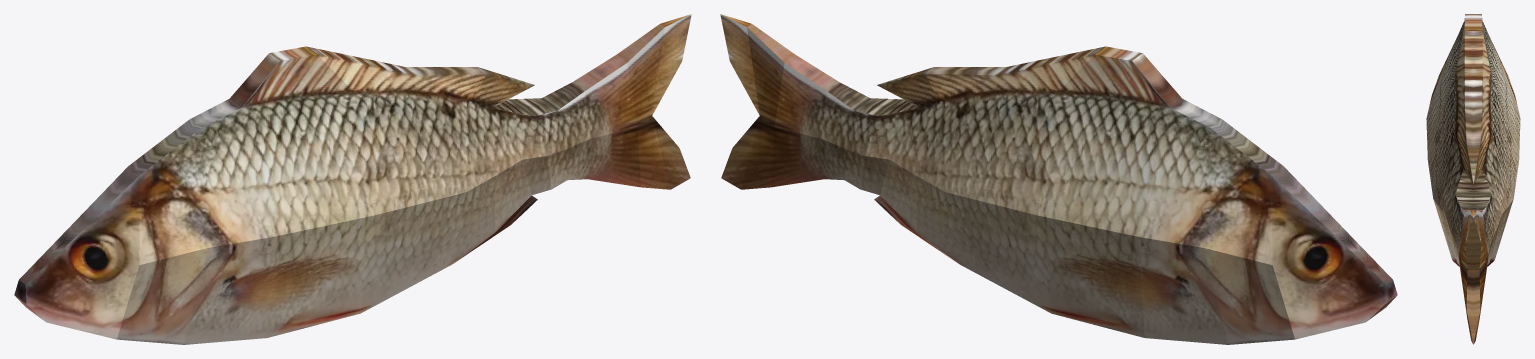
The model's file is low_poly_fish.glb.
The picture shows the model from 3 angles, left to right: view 1: azimuth 30°, elevation 25°; view 2: azimuth 150°, elevation 25°; view 3: azimuth 270°, elevation 25°; orthographic projection. The views are drawn at different scales.
Parts seen in each view (by area): view 1: Cube_1; view 2: Cube_1; view 3: Cube_1.
Boxes of the visible parts, box(x1,y1,x2,y2) form: Cube_1: box(14, 14, 691, 344); Cube_1: box(720, 14, 1397, 344); Cube_1: box(1426, 14, 1520, 344).
Size of the model in its own units: 4.83 by 1.81 by 0.7538.
1 material, 1 textured.
